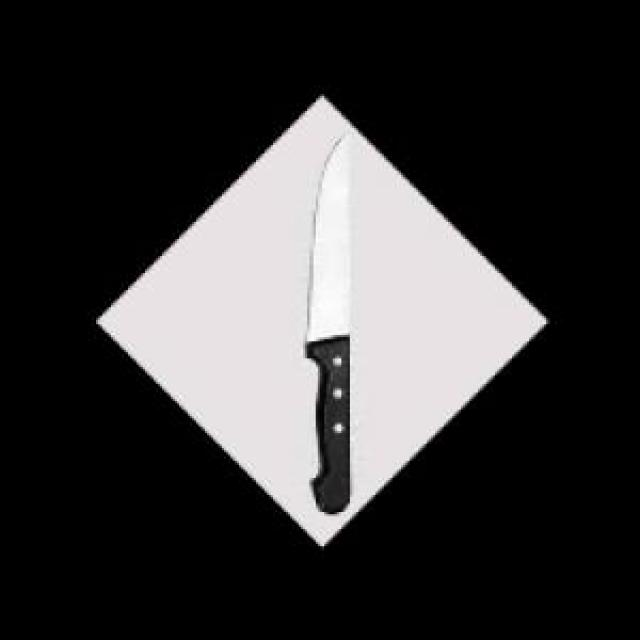knife: (305, 141, 358, 515)
